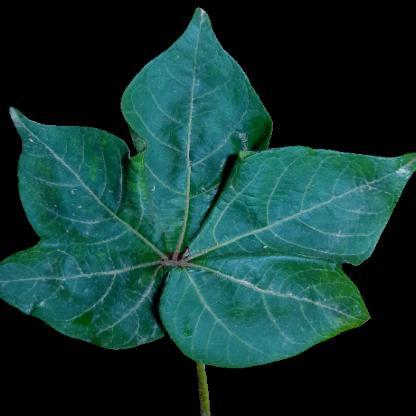healthy: (147, 115, 257, 343), (38, 155, 140, 307), (272, 160, 372, 250), (260, 254, 328, 342), (162, 50, 240, 118)
